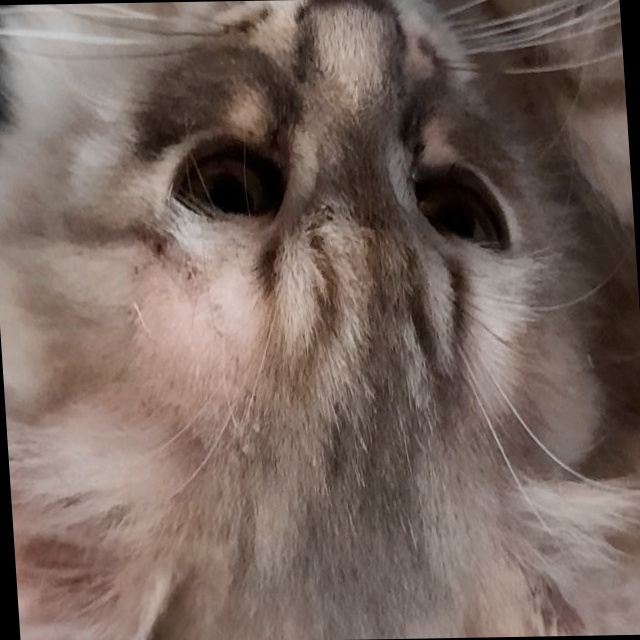hairloss: (169, 235, 263, 348)
